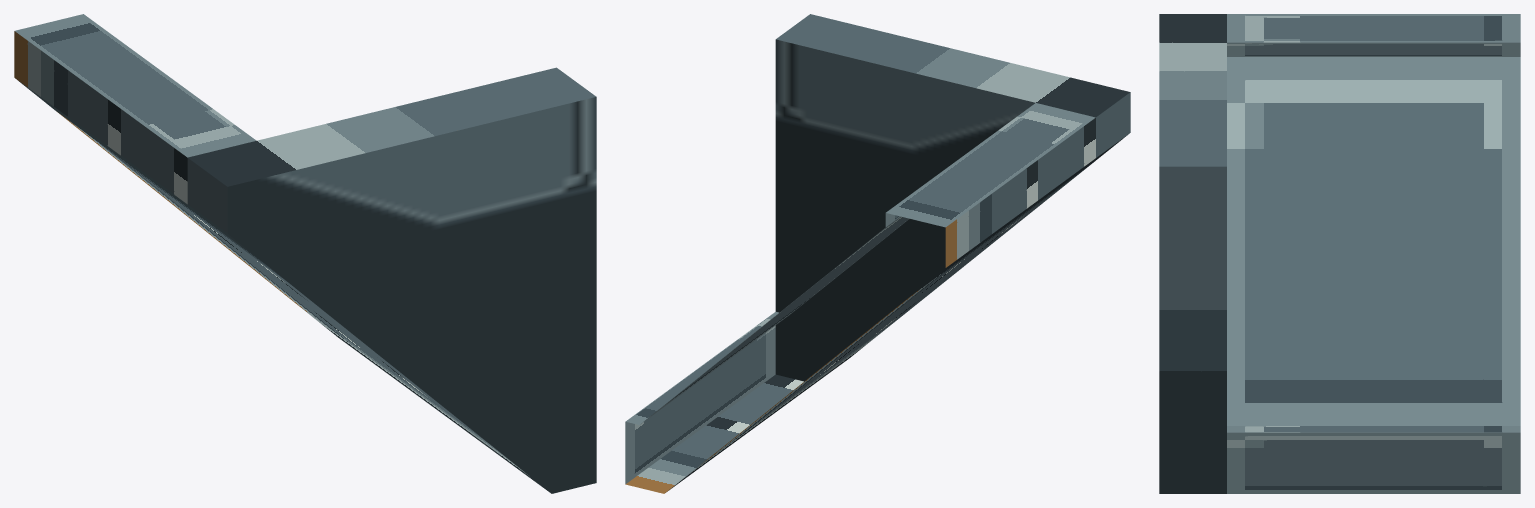
Rendered from casing_d3_rear_x-1_y-1.obj.
3 renders of one model, left to right at view 1: azimuth 30°, elevation 25°; view 2: azimuth 150°, elevation 25°; view 3: azimuth 270°, elevation 25°, orthographic. The views are drawn at different scales.
Parts seen in each view (by area): view 1: d3_rear_x-1_y-1; view 2: d3_rear_x-1_y-1; view 3: d3_rear_x-1_y-1.
Boxes of the visible parts, left/top/right/bottom form: d3_rear_x-1_y-1: left=14, top=14, right=596, bottom=493; d3_rear_x-1_y-1: left=625, top=14, right=1130, bottom=493; d3_rear_x-1_y-1: left=1159, top=14, right=1520, bottom=493.
Bounding box in the file's own units: 1 × 1 × 1.
